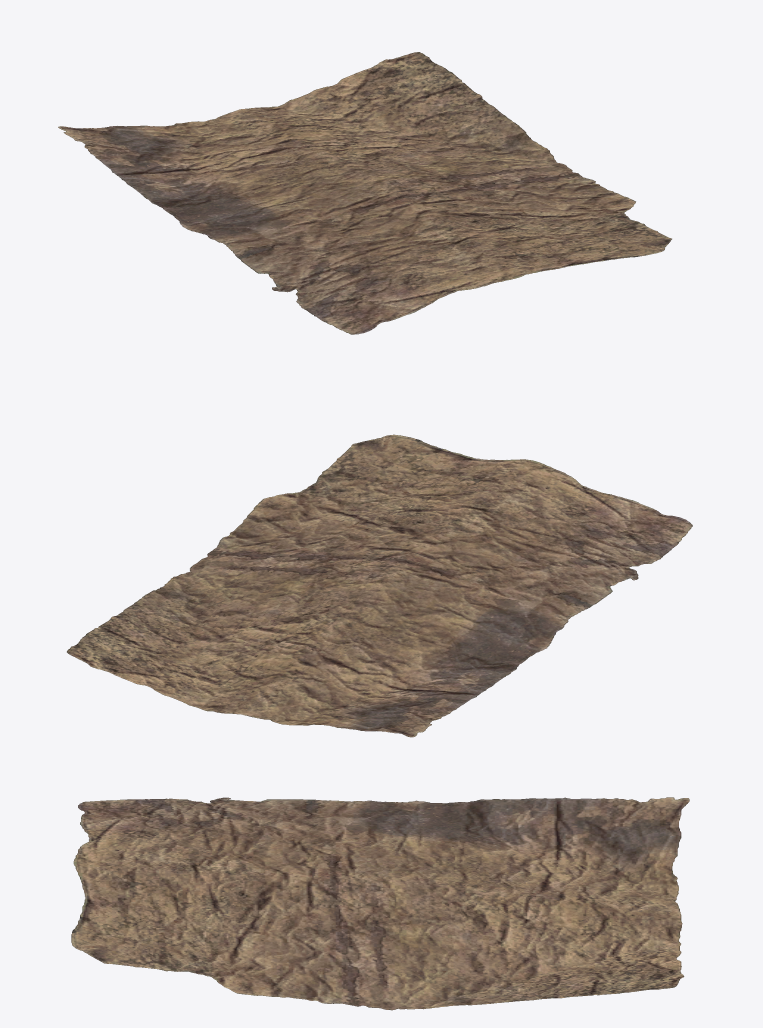
Rendered from paperTrash06.FBX.
The picture shows the model from 3 angles, top to bottom: view 1: azimuth 30°, elevation 25°; view 2: azimuth 150°, elevation 25°; view 3: azimuth 270°, elevation 25°; orthographic projection. The views are drawn at different scales.
Visible parts, largest first — view 1: SM_PaperTrash06; view 2: SM_PaperTrash06; view 3: SM_PaperTrash06.
Part boxes in pixels (bbox=[...]): SM_PaperTrash06: bbox=[58, 52, 671, 334]; SM_PaperTrash06: bbox=[67, 434, 692, 737]; SM_PaperTrash06: bbox=[71, 797, 689, 1010].
Bounding box in the file's own units: 18.53 × 2.5 × 28.88.
1 material, 1 textured.
